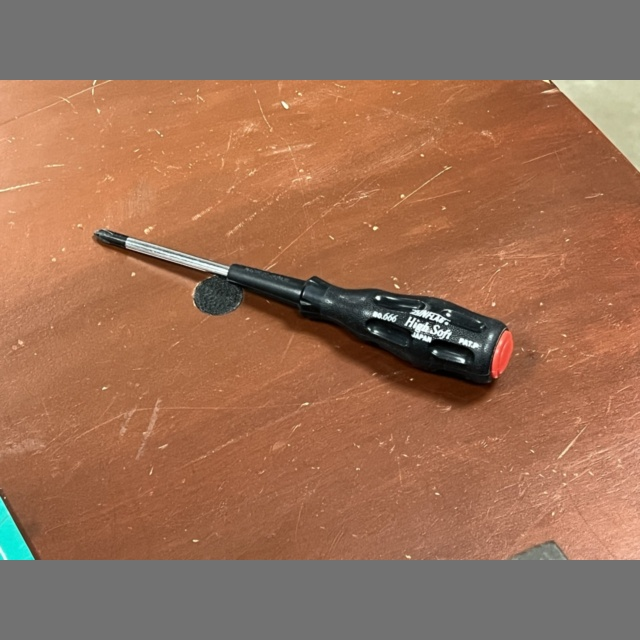screwdriver: (94, 229, 513, 384)
